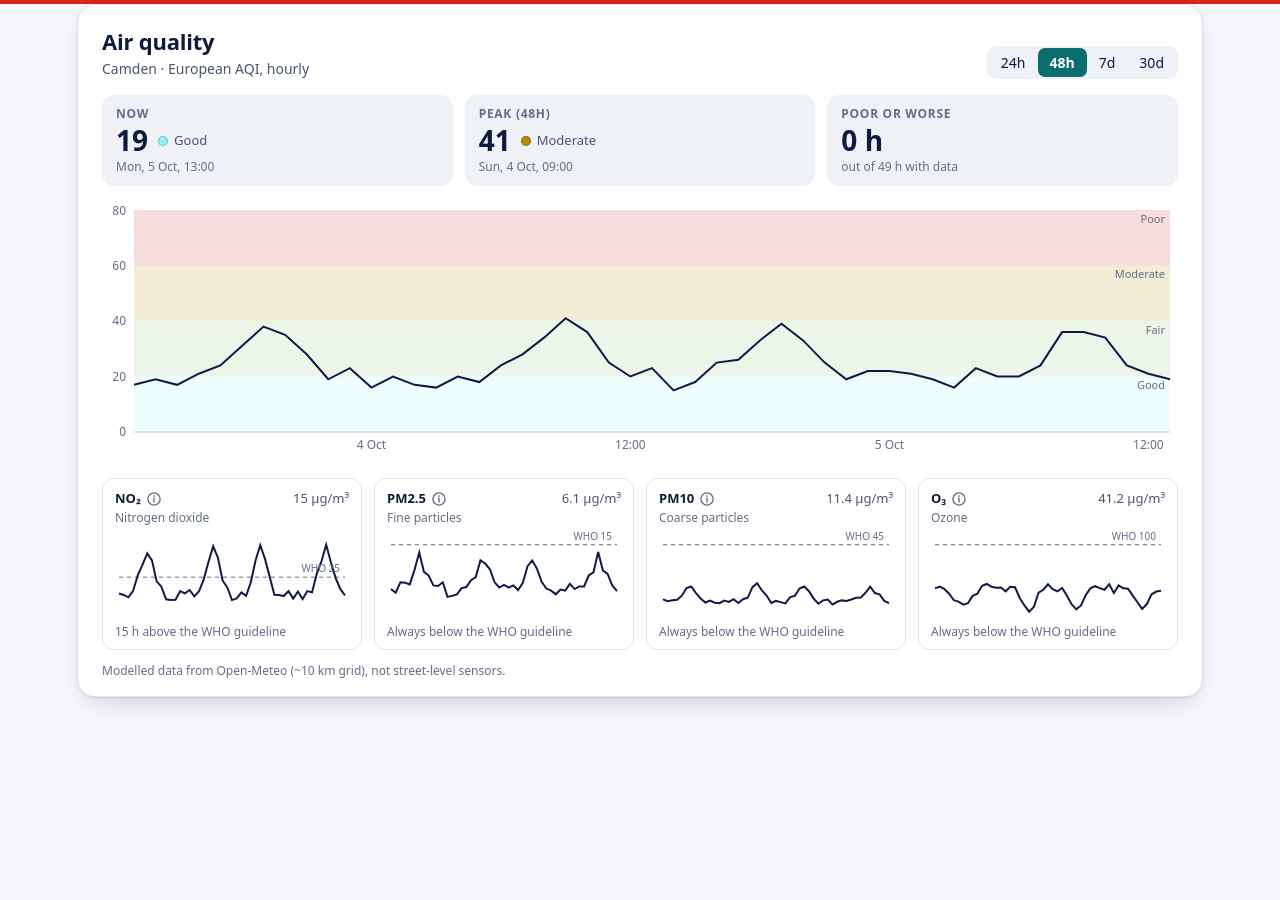
Test case: AirQualityPanel › explains each pollutant in plain language
Expected: the text "Fine particles" is shown, x1=387 y1=508 x2=462 y2=526
Step 1. Click the button named "About fine particles" → click(439, 499), box x1=430 y1=490 x2=448 y2=508
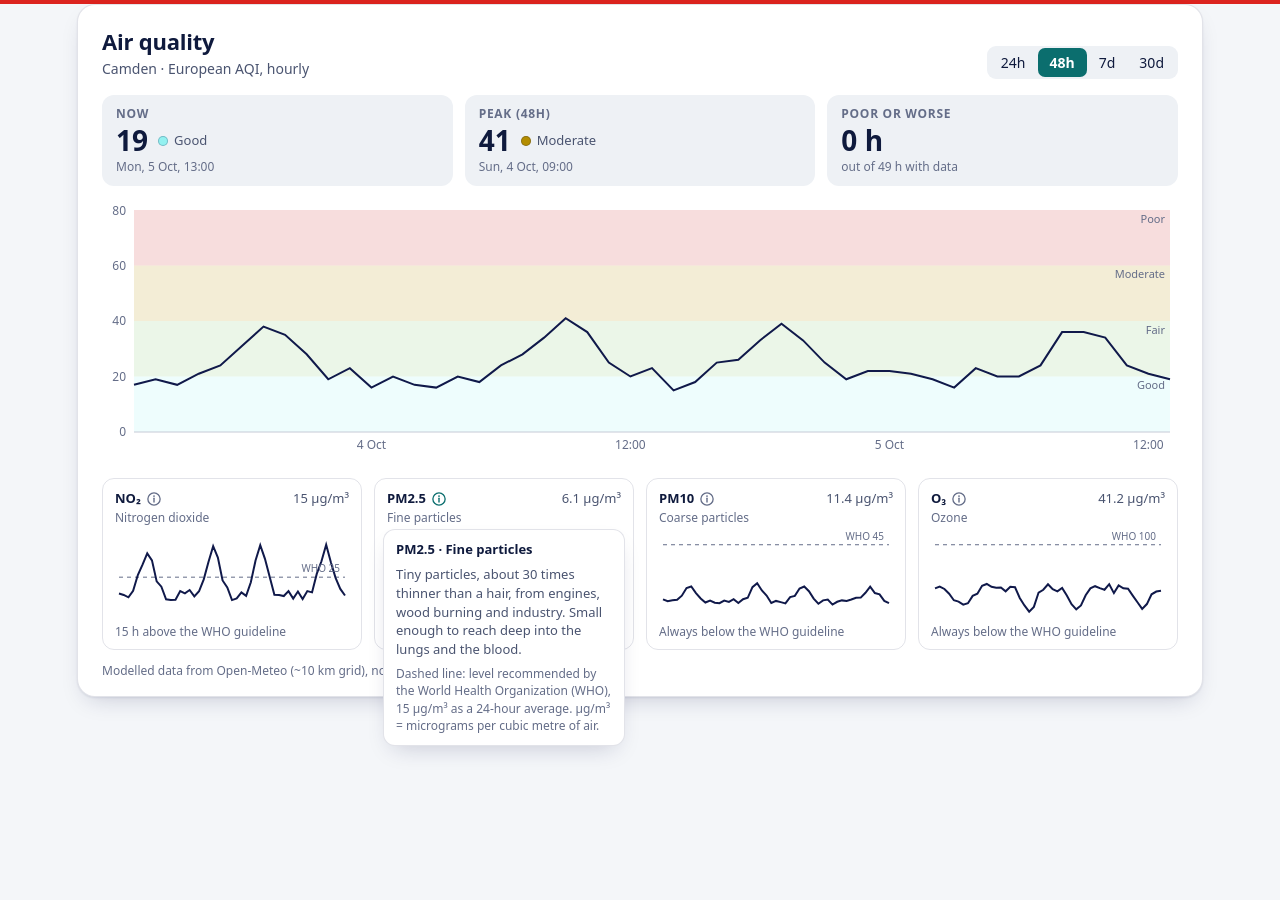
Expected: the element that starts with "PM2.5" shows "reach deep into the lungs", x1=396 y1=565 x2=602 y2=658
Expected: the element that starts with "PM2.5" shows "15 µg/m³ as a 24-hour average", x1=383 y1=529 x2=625 y2=746
